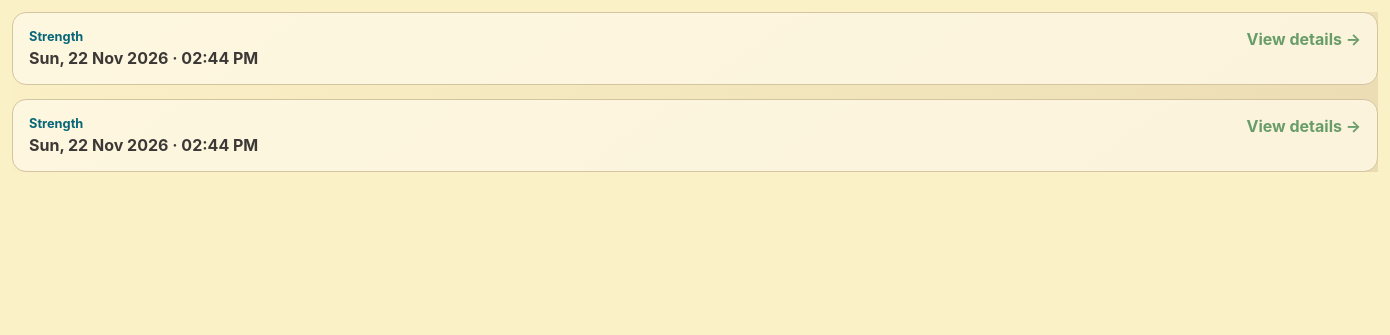
Test: application shell actions › confirms before requesting deletion of a previous session
Later steps or results of the test are not shown.
What coordinates should you click on to do the following:
click the 1st button "Strength Sun, 22 Nov 2026 · 02:44 PM View details →"
I would click on:
 (56, 36)
Its box is [12,12,1378,85].
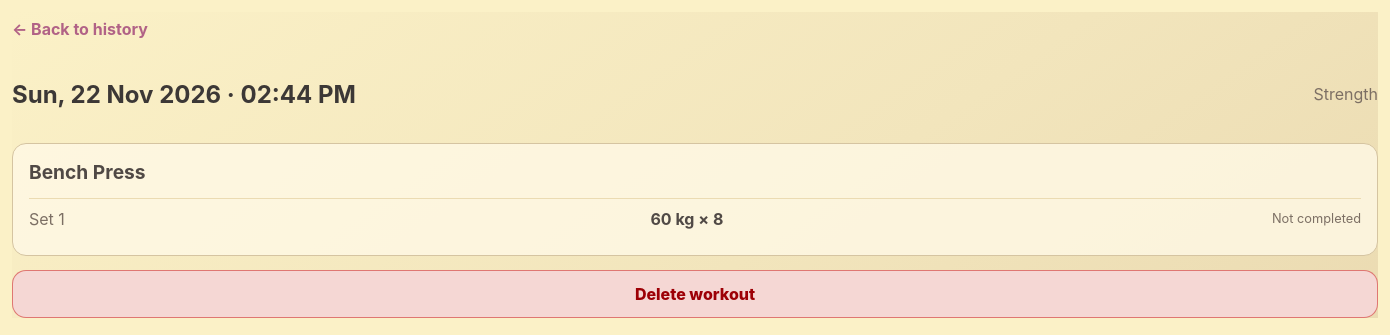
expect the button "Delete workout" is shown: met, box [12,270,1378,318]
